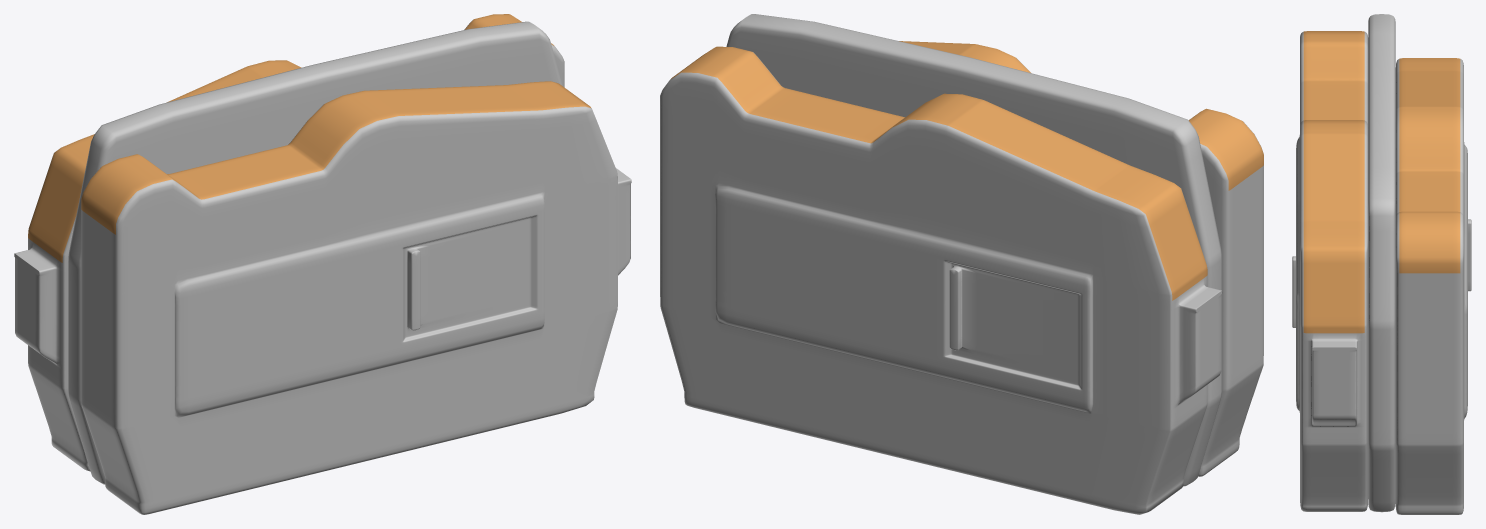
Rendered from Gatemachine.fbx.
3 views of the same model, side by side, from view 1: azimuth 30°, elevation 25°; view 2: azimuth 150°, elevation 25°; view 3: azimuth 270°, elevation 25° (orthographic). The views are drawn at different scales.
Visible parts, largest first — view 1: Gatemachine_body; view 2: Gatemachine_body; view 3: Gatemachine_body.
Part boxes in pixels (x1=…): Gatemachine_body: x1=14, y1=14, x2=631, y2=514; Gatemachine_body: x1=660, y1=14, x2=1263, y2=514; Gatemachine_body: x1=1292, y1=14, x2=1471, y2=514.
Bounding box in the file's own units: 257 × 165 × 84.
